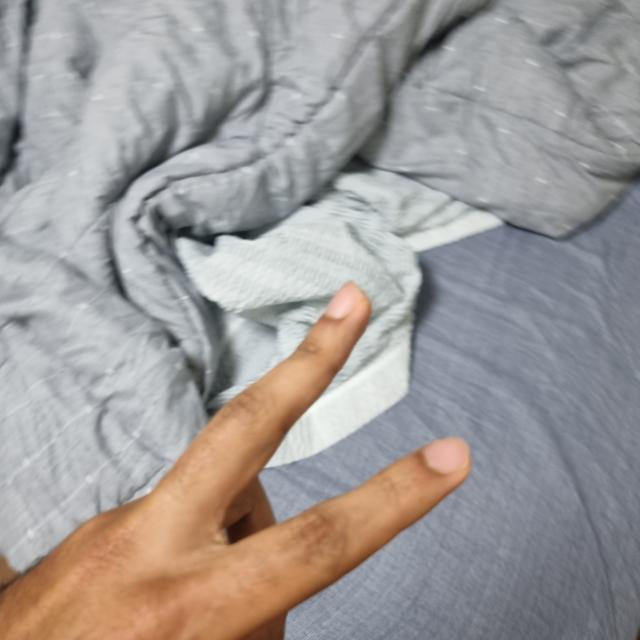Scissors: (0, 287, 463, 638)
